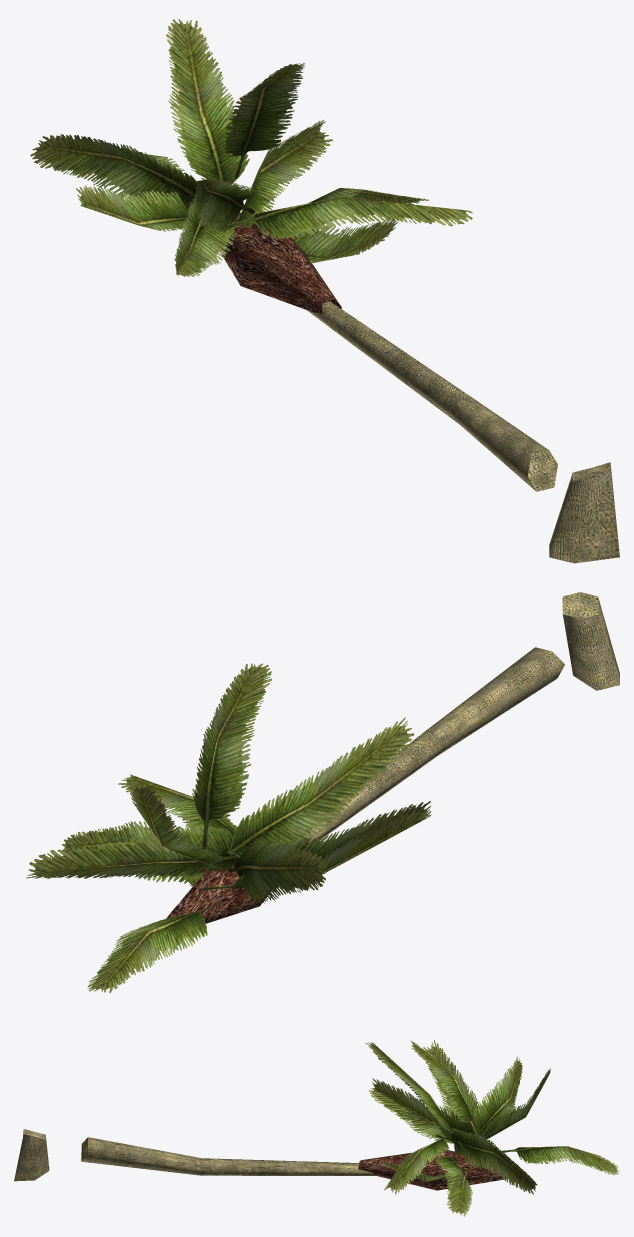
Rendered from tree_palm_date_dead_a.glb.
The picture shows the model from 3 angles, top to bottom: view 1: azimuth 30°, elevation 25°; view 2: azimuth 150°, elevation 25°; view 3: azimuth 270°, elevation 25°; orthographic projection. The views are drawn at different scales.
Visible parts, largest first — view 1: tree_palm_date_dead_a; view 2: tree_palm_date_dead_a; view 3: tree_palm_date_dead_a.
Boxes of the visible parts, x1,y1,x2,y2 form: tree_palm_date_dead_a: (30, 19, 619, 563); tree_palm_date_dead_a: (26, 592, 619, 992); tree_palm_date_dead_a: (14, 1040, 619, 1216).
Size of the model in its own units: 8.64 by 5.36 by 20.2.
1 material, 1 textured.
